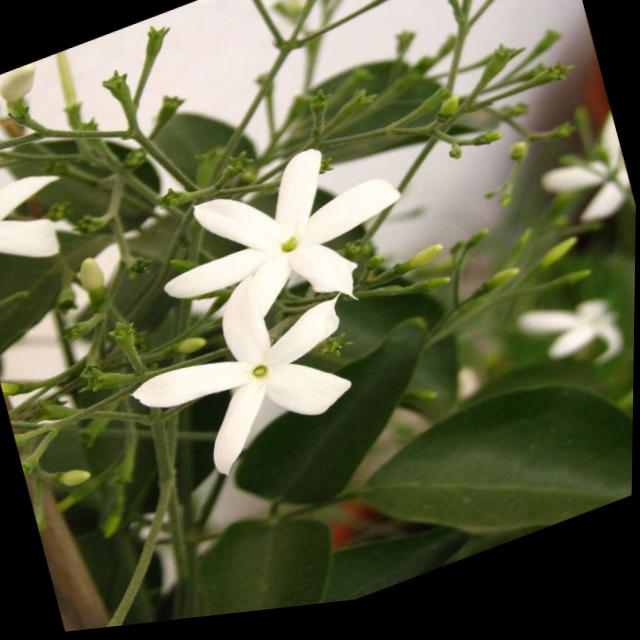Flower: (132, 118, 428, 367), (128, 269, 393, 504), (0, 124, 81, 309)
